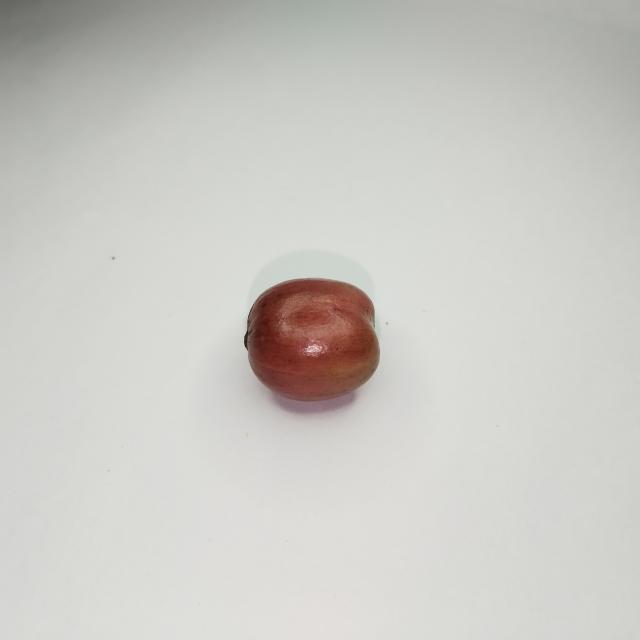Sano: (244, 277, 379, 401)
